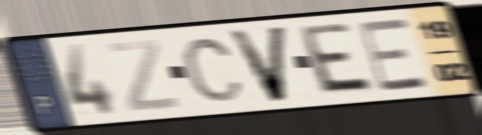4: (63, 41, 121, 118)
C: (180, 36, 246, 104)
E: (355, 15, 434, 94), (298, 20, 379, 97)
V: (224, 23, 291, 105)
Z: (104, 37, 182, 114)
